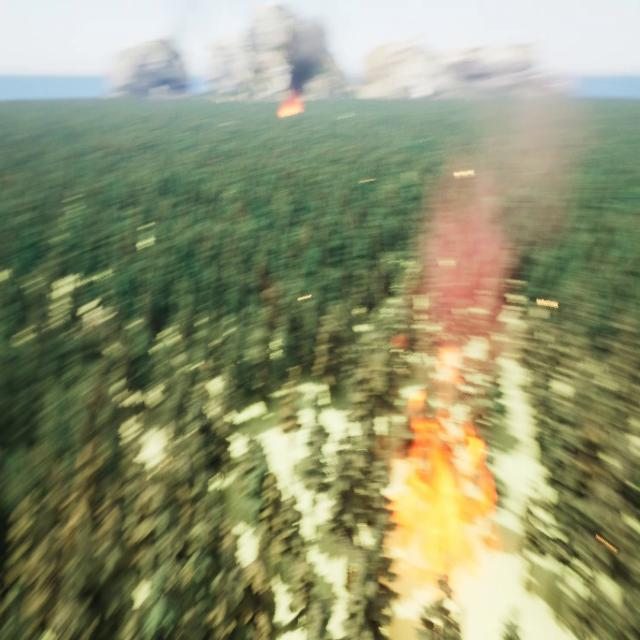fire: (376, 385, 506, 627), (277, 97, 305, 121)
smoke: (413, 74, 582, 360), (286, 30, 326, 94)
